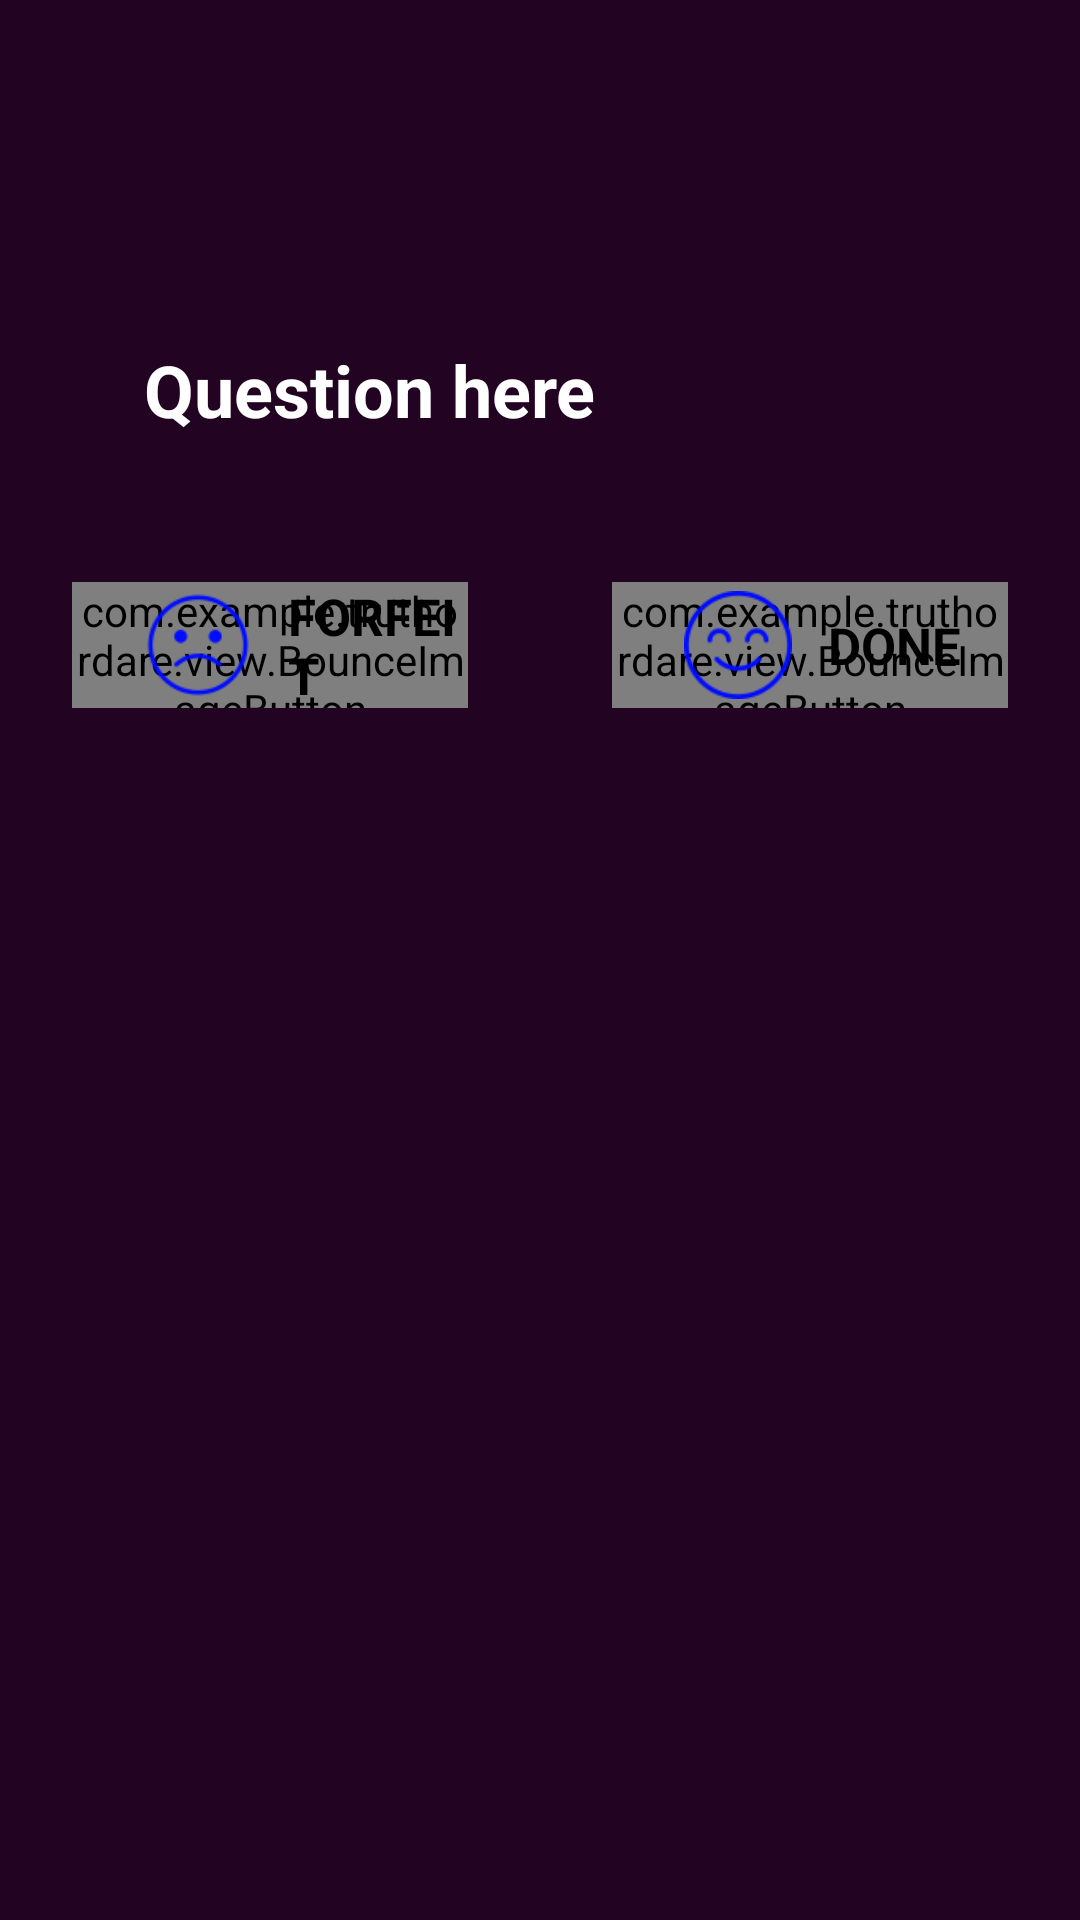

Point at icon controls on the screen. Image size 1080 × 1920, points as (x,y).
sad: (198,646)
smile: (738,645)
